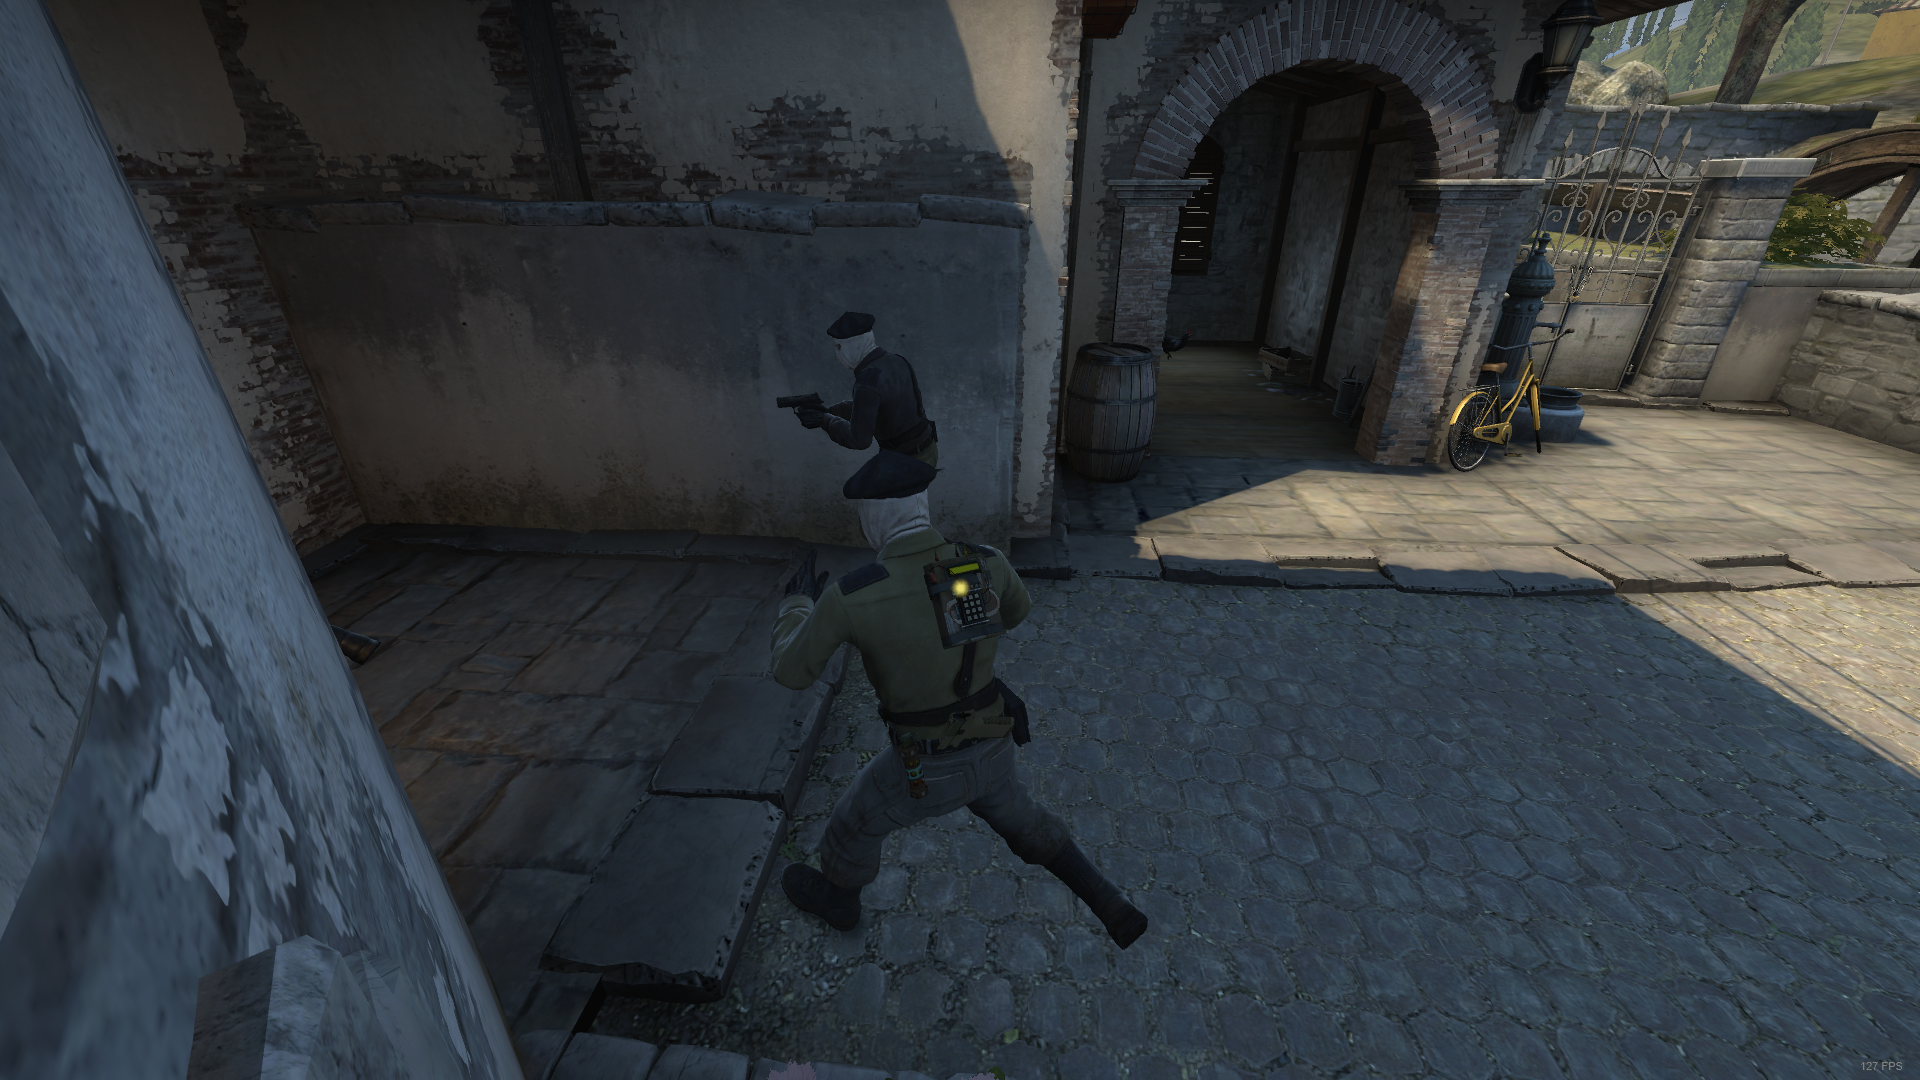t: (773, 451, 1150, 949), (804, 313, 942, 498)
